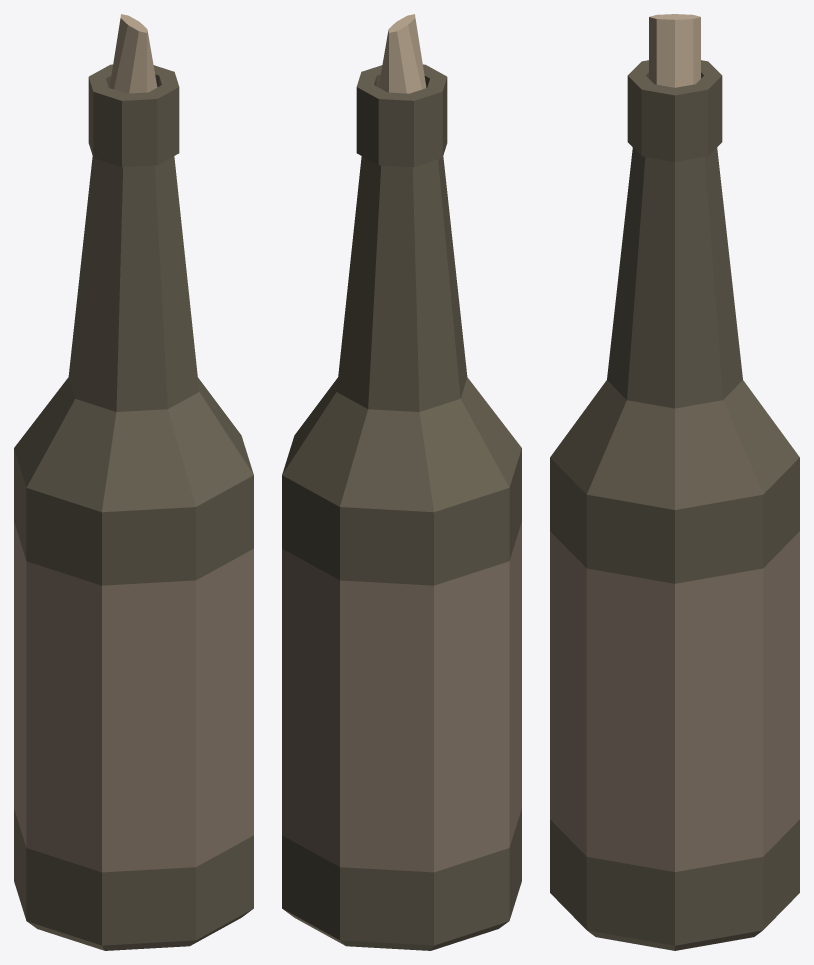
The model's file is MolotovCocktail.fbx.
3 views of the same model, side by side, from view 1: azimuth 30°, elevation 25°; view 2: azimuth 150°, elevation 25°; view 3: azimuth 270°, elevation 25° (orthographic).
Parts seen in each view (by area): view 1: MolotovCocktail; view 2: MolotovCocktail; view 3: MolotovCocktail.
Boxes of the visible parts, x1,y1,x2,y2 form: MolotovCocktail: (14, 14, 253, 950); MolotovCocktail: (282, 14, 521, 950); MolotovCocktail: (550, 14, 799, 950).
Bounding box in the file's own units: 0.0663 × 0.2598 × 0.0663.
